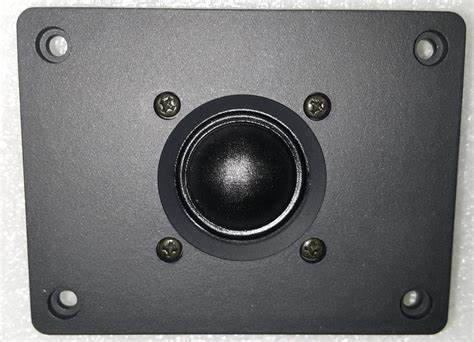hole: (33, 23, 74, 67), (411, 28, 450, 71), (398, 286, 435, 321), (47, 287, 83, 321)
screw: (302, 91, 333, 123), (299, 236, 329, 266), (155, 236, 185, 266), (153, 90, 182, 120)
